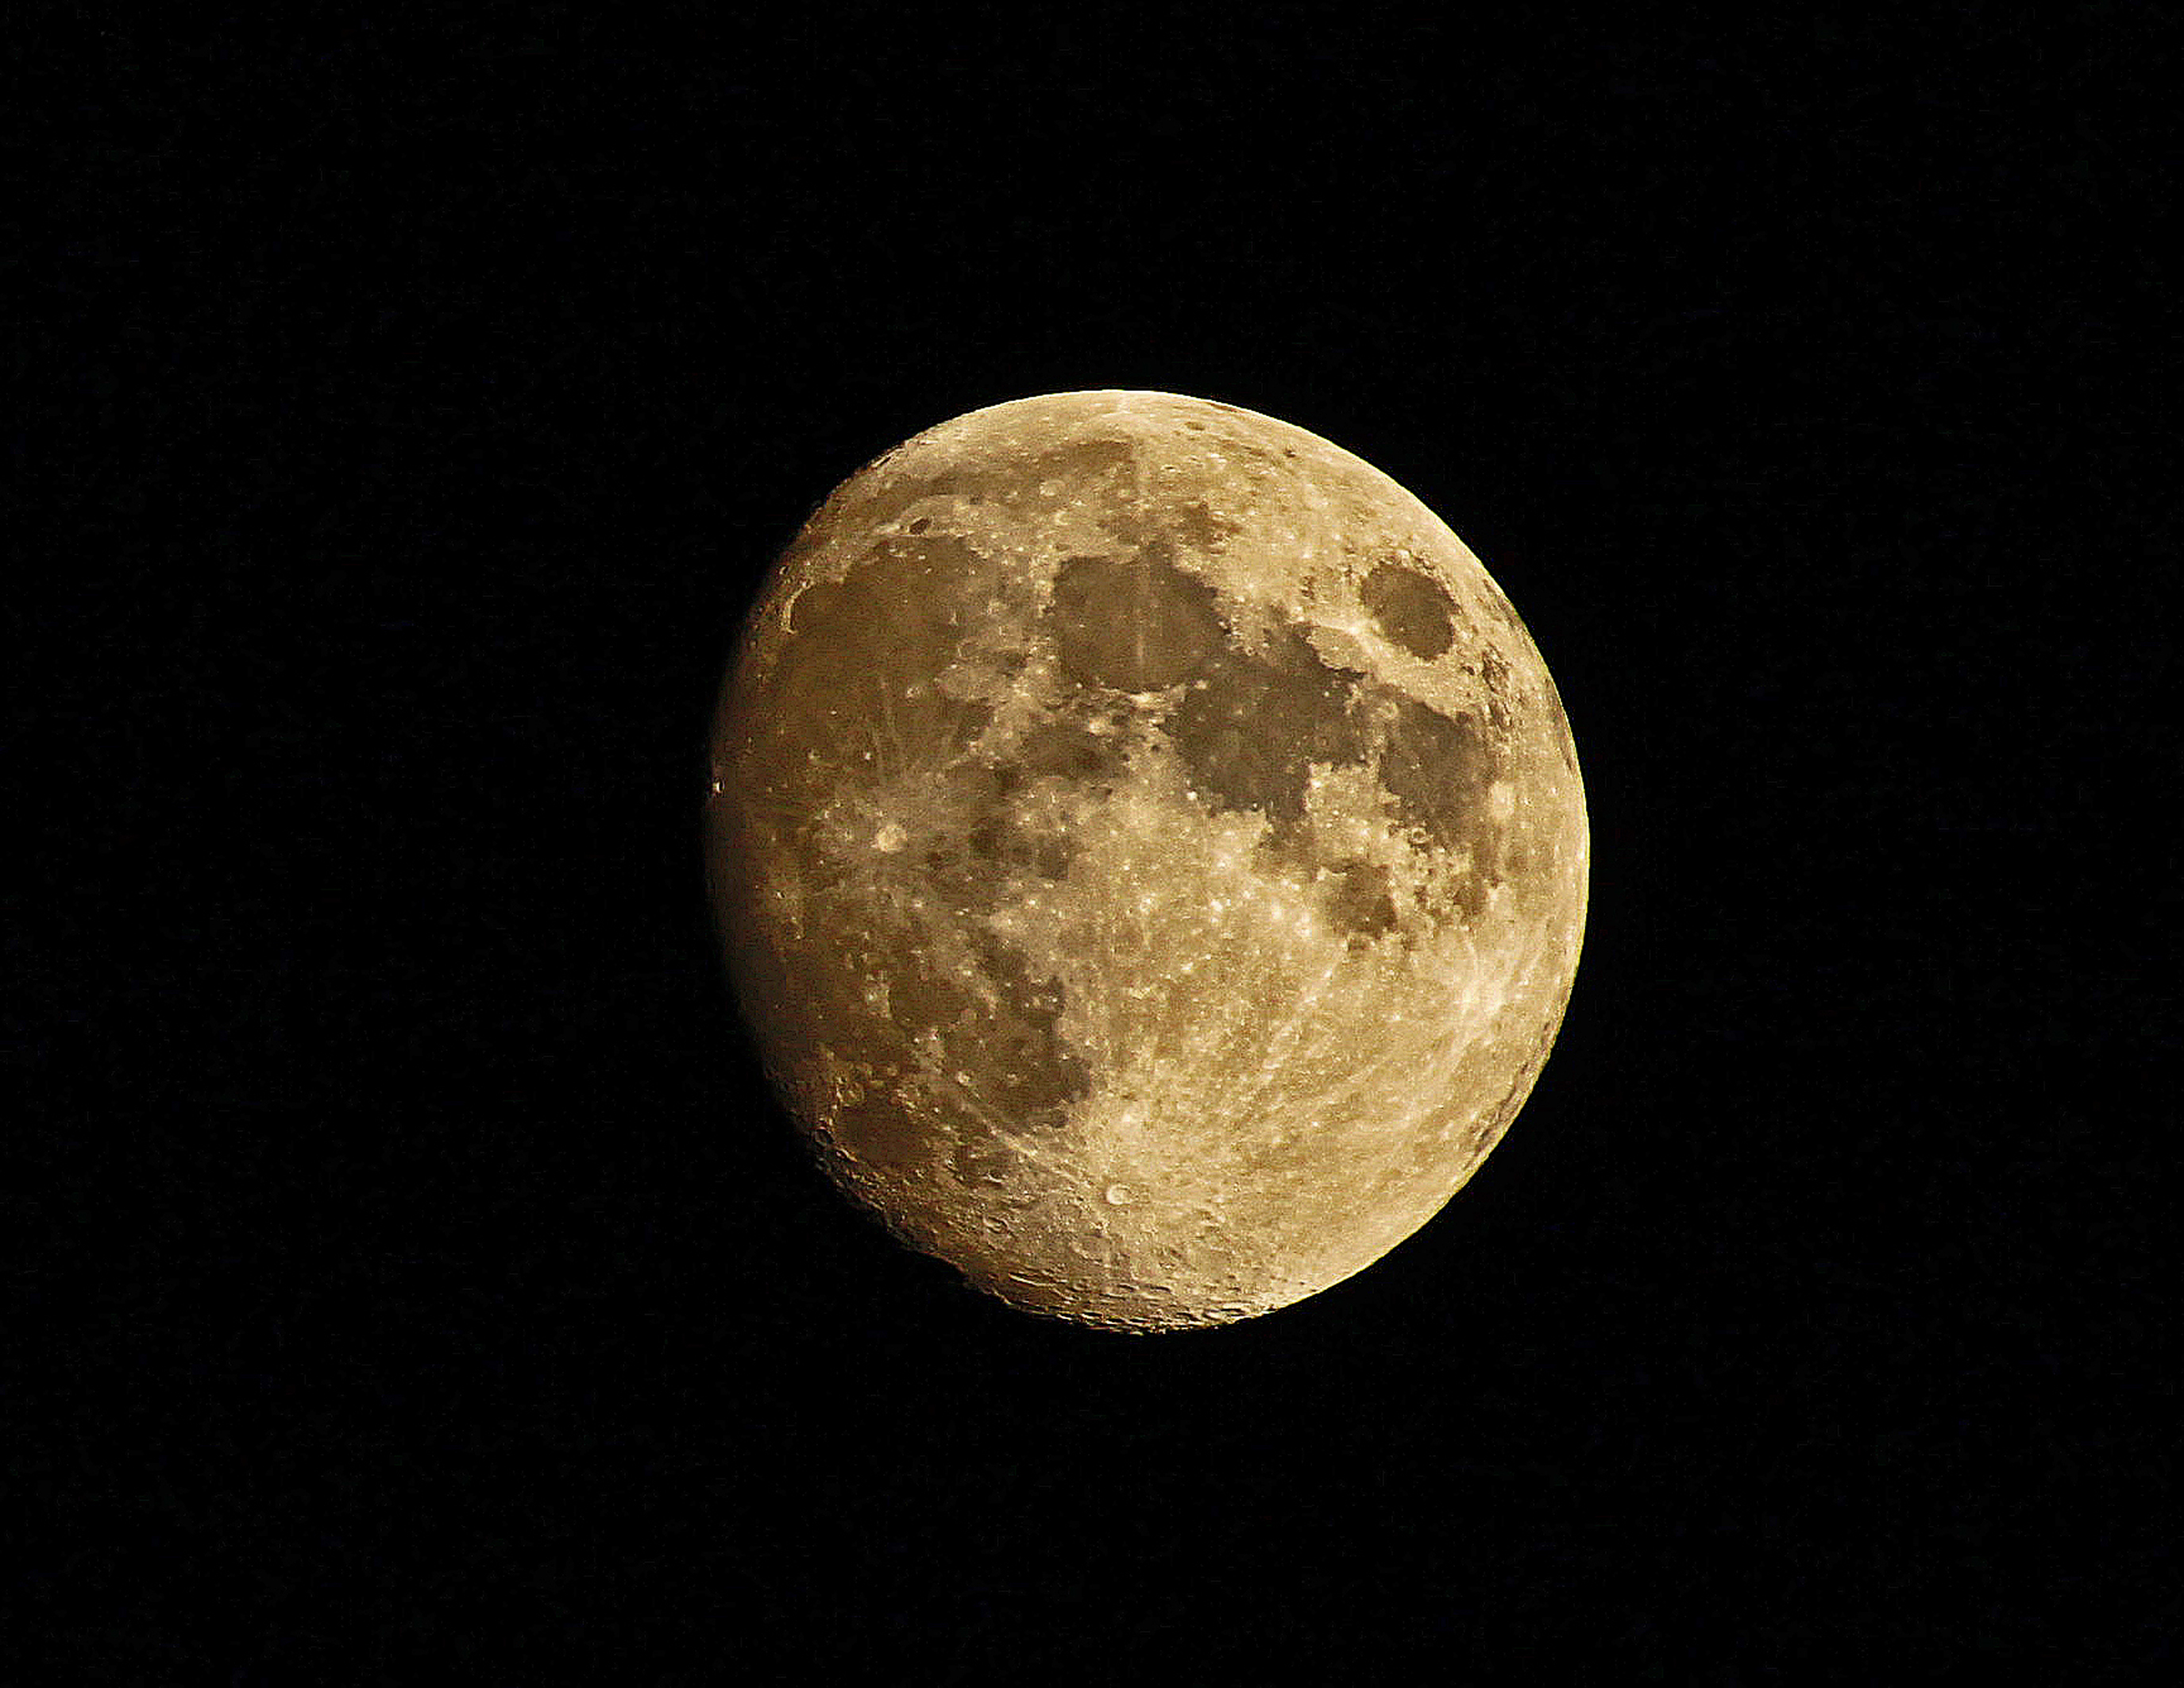crater: (1021, 1105, 1214, 1246), (824, 1075, 957, 1190), (849, 782, 947, 878), (899, 498, 947, 553), (1161, 406, 1218, 445), (1271, 434, 1308, 468)
